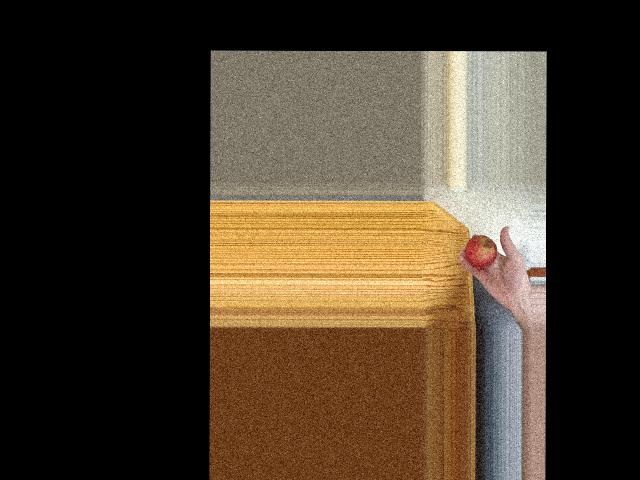apple: (466, 234, 500, 272)
